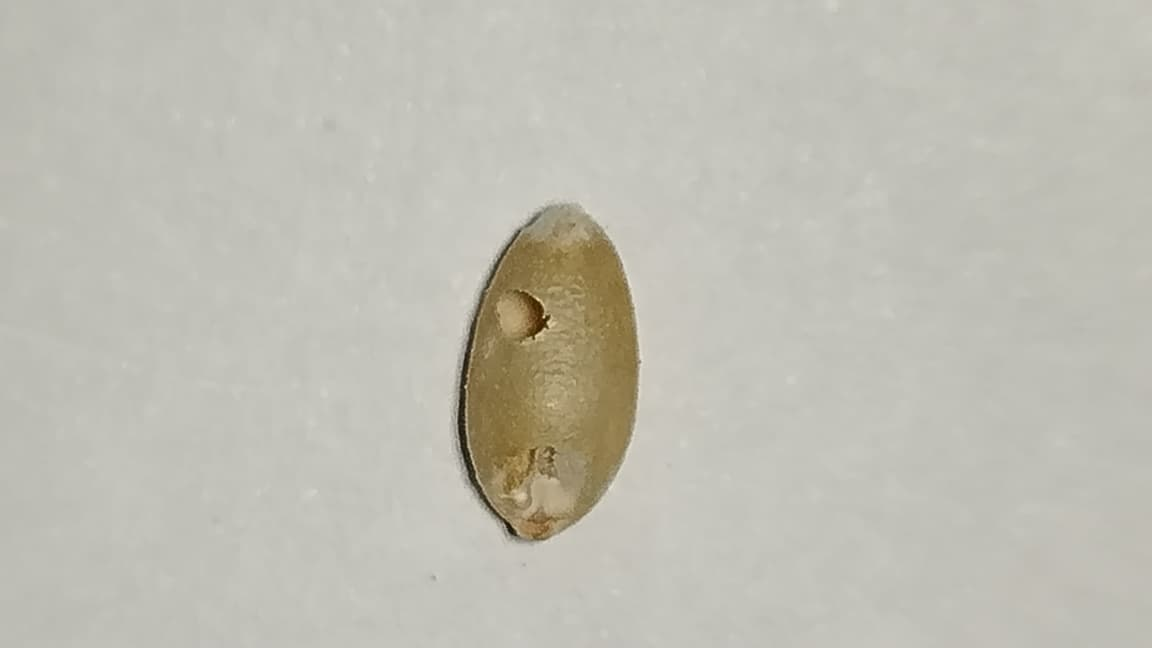damage: (462, 203, 638, 538)
molddamage: (492, 445, 582, 539), (478, 286, 565, 351)
